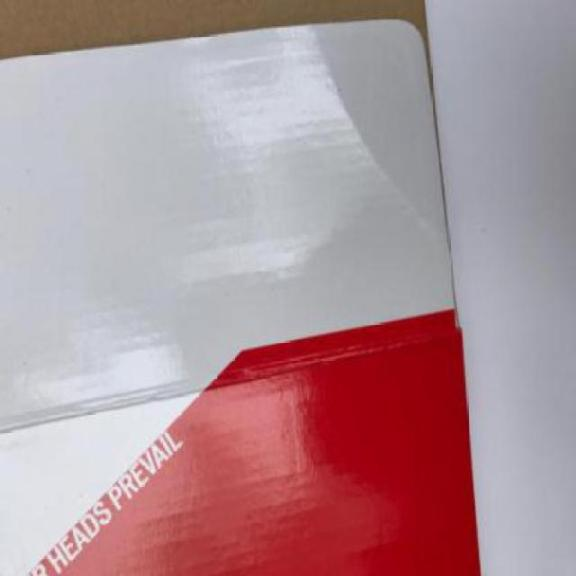Kertas: (0, 1, 478, 575)
